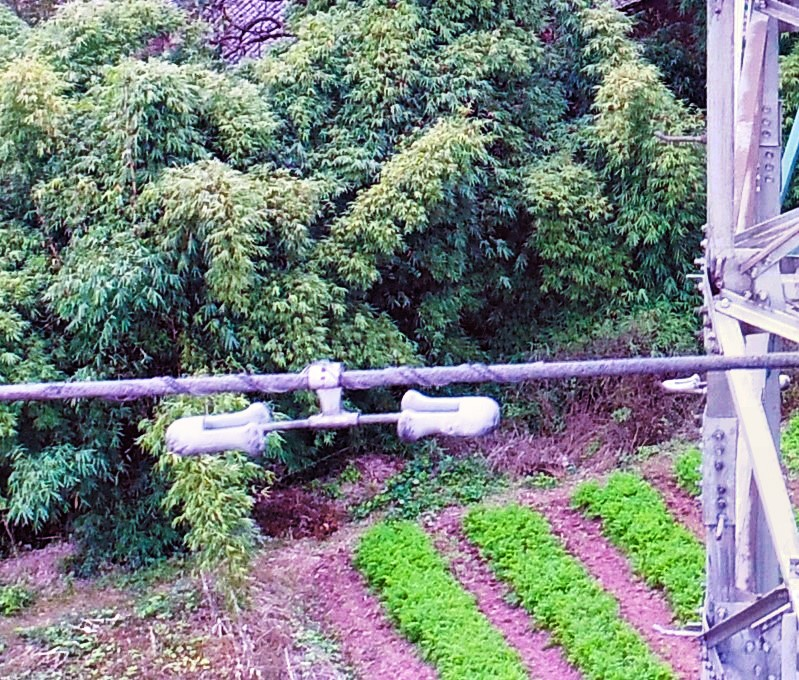Shockproof hammer: (157, 351, 505, 459)
